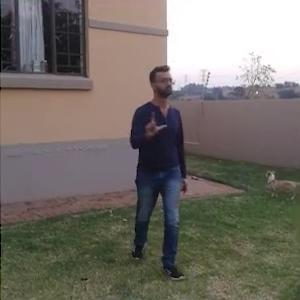land_hand: (140, 107, 169, 138)
